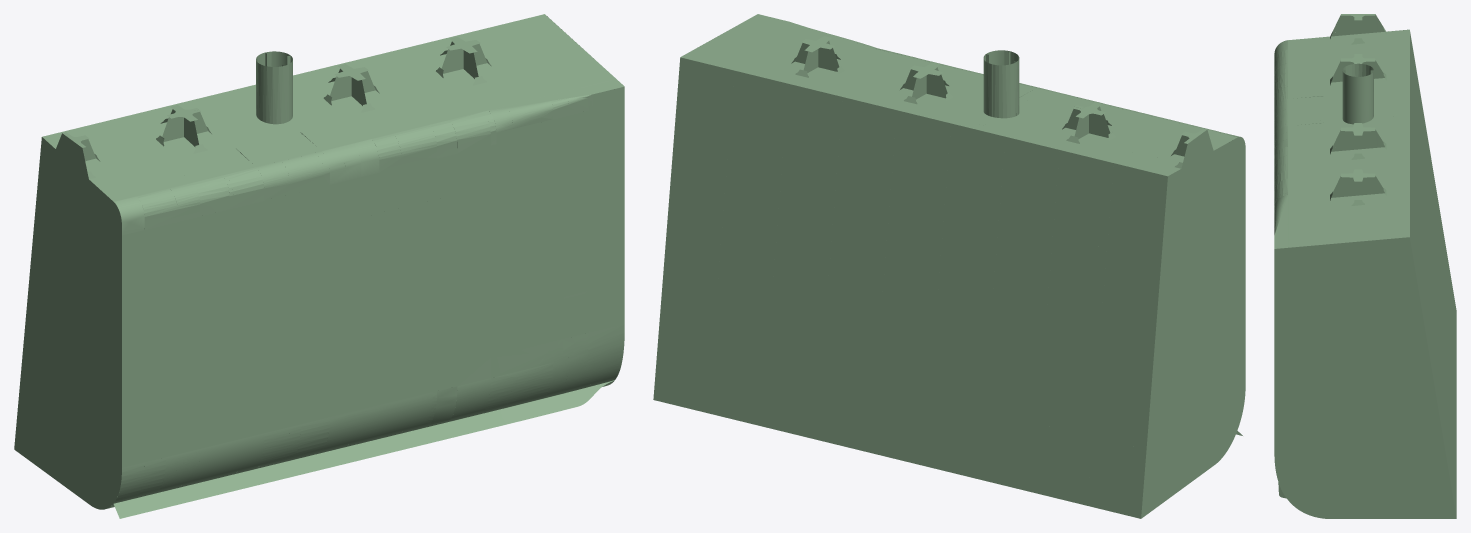
File: NO_2_WING_WATER_BLT_TK_SB.glb
3 views of the same model, side by side, from view 1: azimuth 30°, elevation 25°; view 2: azimuth 150°, elevation 25°; view 3: azimuth 270°, elevation 25° (orthographic). The views are drawn at different scales.
Visible parts, largest first — view 1: PL_OuterShellxNo2SideTankS_040003-19_NVA32_1993, PL_OuterShellxNo2SideTankS_073002-18.5_NVA32_1993, PL_OuterShellxNo2SideTankS_040002-19_NVA32_1993, PL_OuterShellxNo2SideTankS_049002-20_NVD32_1993, PL_OuterShellxNo2SideTankS_034005-19_NVA32_1993, PL_OuterShellxNo2SideTankS_041003-19_NVA32_1993, PL_OuterShellxNo2SideTankS_069003-18.5_NVA32_1993, PL_OuterShellxNo2SideTankS_041002-19_NVA32_1993, PL_SideTransBHDxBHD81S_004001-18.5_NVA32_1993, PL_OuterShellxNo2SideTankS_037006-19_NVA32_1993, PL_OuterShellxNo2SideTankS_071004-18.5_NVA32_1993, PL_OuterShellxNo2SideTankS_028002-20.5_NVA32_1993 (+132 smaller); view 2: PL_LBHDxNo2CenterTankS_026003-19.5_NVA36_1993, PL_LBHDxNo2CenterTankS_013005-19.5_NVA36_1993, PL_LBHDxNo2CenterTankS_021002-17.5_NVA32_1993, PL_LBHDxNo2CenterTankS_020002-17.5_NVA36_1993, PL_LBHDxNo2CenterTankS_014005-17.5_NVA32_1993, PL_LBHDxNo2CenterTankS_013003-19.5_NVA36_1993, PL_LBHDxNo2CenterTankS_022003-17_NVA32_1993, PL_LBHDxNo2CenterTankS_017003-15_NVA32_1993, PL_LBHDxNo2CenterTankS_015009-17_NVA32_1993, PL_LBHDxNo2CenterTankS_026002-19.5_NVA36_1993, PL_LBHDxNo2CenterTankS_014003-17.5_NVA32_1993, PL_LBHDxNo2CenterTankS_013004-19.5_NVA36_1993 (+129 smaller); view 3: PL_SideTransBHDxBHD90S_017001-19.5_NVA32_1993, PL_SideTransBHDxBHD90S_018001-18.5_NVA32_1993, PL_SideTransBHDxBHD90S_001002-19.5_NVA32_1993, PL_SideTransBHDxBHD90S_003002-18.5_NVA32_1993, PL_SideTransBHDxBHD90S_007002-17_NVA32_1993, PL_SideTransBHDxBHD90S_023002-13.5_NVA_1993, PL_SideTransBHDxBHD90S_024001-13.5_NVA_1993, PL_SideTransBHDxBHD90S_019001-17_NVA32_1993, PL_SideTransBHDxBHD90S_021001-14.5_NVA32_1993, PL_SideTransBHDxBHD90S_012002-14.5_NVA32_1993, PL_SideTransBHDxBHD90S_007001-17_NVA32_1993, PL_SideTransBHDxBHD90S_012001-14.5_NVA32_1993 (+77 smaller).
Boxes of the visible parts, x1,y1,x2,y2 form: PL_OuterShellxNo2SideTankS_040003-19_NVA32_1993: [200, 285, 264, 342]; PL_OuterShellxNo2SideTankS_073002-18.5_NVA32_1993: [491, 214, 553, 271]; PL_OuterShellxNo2SideTankS_040002-19_NVA32_1993: [145, 300, 200, 356]; PL_OuterShellxNo2SideTankS_049002-20_NVD32_1993: [256, 151, 329, 200]; PL_OuterShellxNo2SideTankS_034005-19_NVA32_1993: [200, 369, 264, 419]; PL_OuterShellxNo2SideTankS_041003-19_NVA32_1993: [379, 244, 432, 298]; PL_OuterShellxNo2SideTankS_069003-18.5_NVA32_1993: [491, 299, 553, 348]; PL_OuterShellxNo2SideTankS_041002-19_NVA32_1993: [330, 257, 379, 310]; PL_SideTransBHDxBHD81S_004001-18.5_NVA32_1993: [68, 408, 121, 484]; PL_OuterShellxNo2SideTankS_037006-19_NVA32_1993: [200, 337, 264, 384]; PL_OuterShellxNo2SideTankS_071004-18.5_NVA32_1993: [491, 266, 553, 314]; PL_OuterShellxNo2SideTankS_028002-20.5_NVA32_1993: [193, 433, 264, 482]; PL_LBHDxNo2CenterTankS_026003-19.5_NVA36_1993: [1003, 442, 1068, 500]; PL_LBHDxNo2CenterTankS_013005-19.5_NVA36_1993: [722, 374, 786, 431]; PL_LBHDxNo2CenterTankS_021002-17.5_NVA32_1993: [1006, 401, 1071, 456]; PL_LBHDxNo2CenterTankS_020002-17.5_NVA36_1993: [963, 127, 1029, 181]; PL_LBHDxNo2CenterTankS_014005-17.5_NVA32_1993: [726, 333, 789, 388]; PL_LBHDxNo2CenterTankS_013003-19.5_NVA36_1993: [835, 401, 894, 457]; PL_LBHDxNo2CenterTankS_022003-17_NVA32_1993: [1010, 355, 1075, 408]; PL_LBHDxNo2CenterTankS_017003-15_NVA32_1993: [849, 229, 908, 284]; PL_LBHDxNo2CenterTankS_015009-17_NVA32_1993: [730, 286, 793, 339]; PL_LBHDxNo2CenterTankS_026002-19.5_NVA36_1993: [1065, 457, 1122, 513]; PL_LBHDxNo2CenterTankS_014003-17.5_NVA32_1993: [839, 360, 897, 414]; PL_LBHDxNo2CenterTankS_013004-19.5_NVA36_1993: [783, 388, 838, 444]; PL_SideTransBHDxBHD90S_017001-19.5_NVA32_1993: [1278, 480, 1365, 518]; PL_SideTransBHDxBHD90S_018001-18.5_NVA32_1993: [1274, 450, 1365, 480]; PL_SideTransBHDxBHD90S_001002-19.5_NVA32_1993: [1377, 483, 1456, 518]; PL_SideTransBHDxBHD90S_003002-18.5_NVA32_1993: [1377, 450, 1450, 482]; PL_SideTransBHDxBHD90S_007002-17_NVA32_1993: [1377, 411, 1443, 443]; PL_SideTransBHDxBHD90S_023002-13.5_NVA_1993: [1274, 280, 1348, 305]; PL_SideTransBHDxBHD90S_024001-13.5_NVA_1993: [1274, 242, 1348, 270]; PL_SideTransBHDxBHD90S_019001-17_NVA32_1993: [1274, 411, 1329, 443]; PL_SideTransBHDxBHD90S_021001-14.5_NVA32_1993: [1274, 343, 1329, 375]; PL_SideTransBHDxBHD90S_012002-14.5_NVA32_1993: [1377, 343, 1432, 375]; PL_SideTransBHDxBHD90S_007001-17_NVA32_1993: [1330, 411, 1377, 443]; PL_SideTransBHDxBHD90S_012001-14.5_NVA32_1993: [1330, 343, 1377, 375].
Size of the model in its own units: 47.16 by 34.37 by 17.51.
